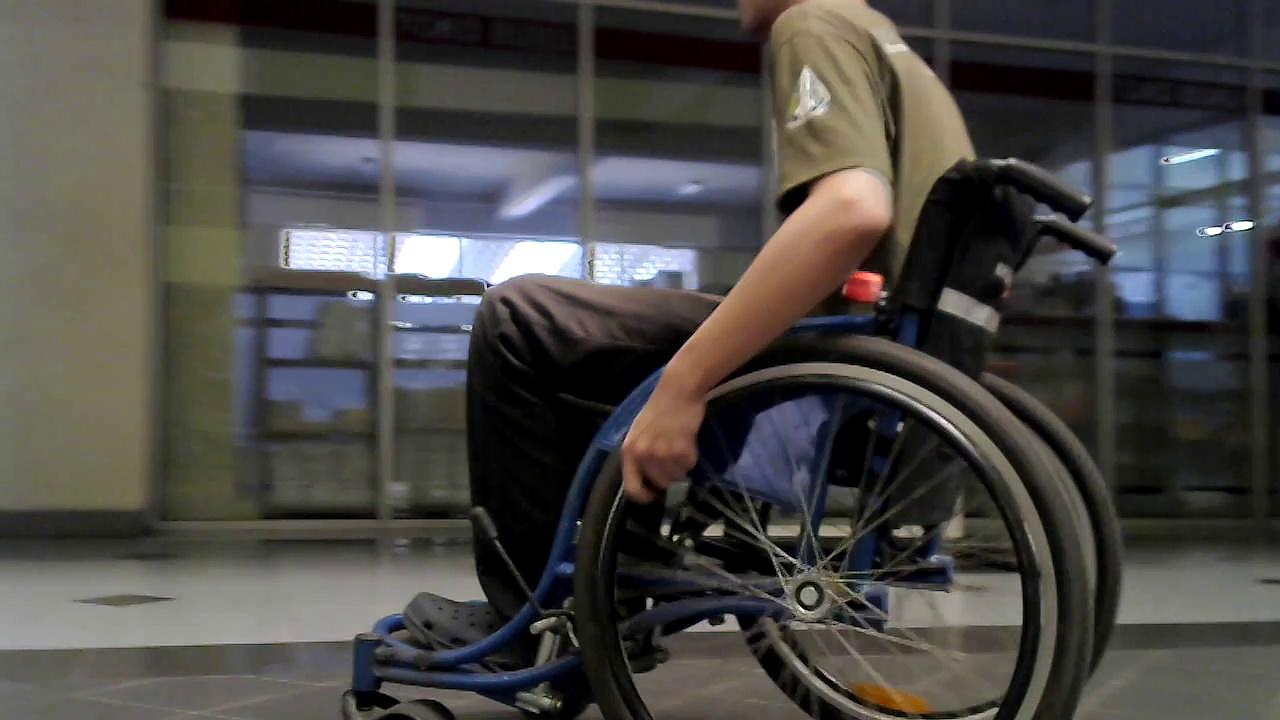person: (367, 4, 980, 686)
wheelchair: (323, 139, 1176, 720)
